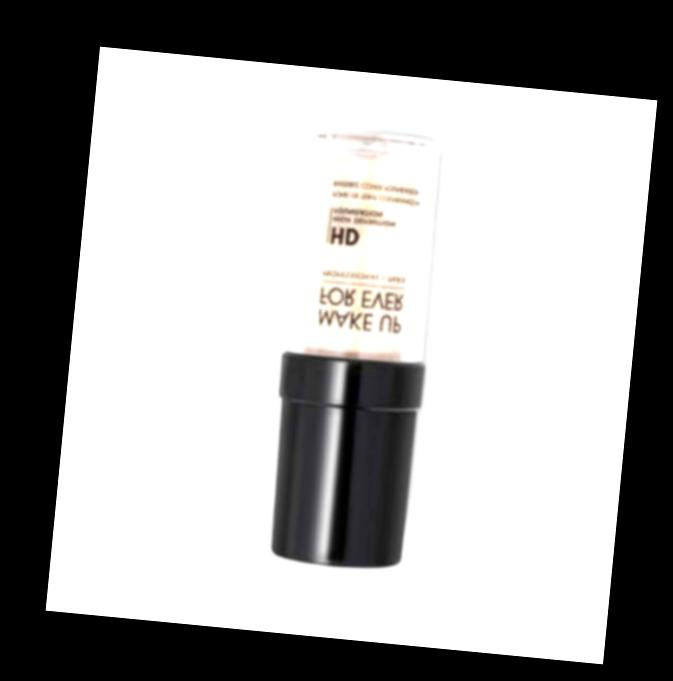cosmetic: (256, 125, 450, 573)
